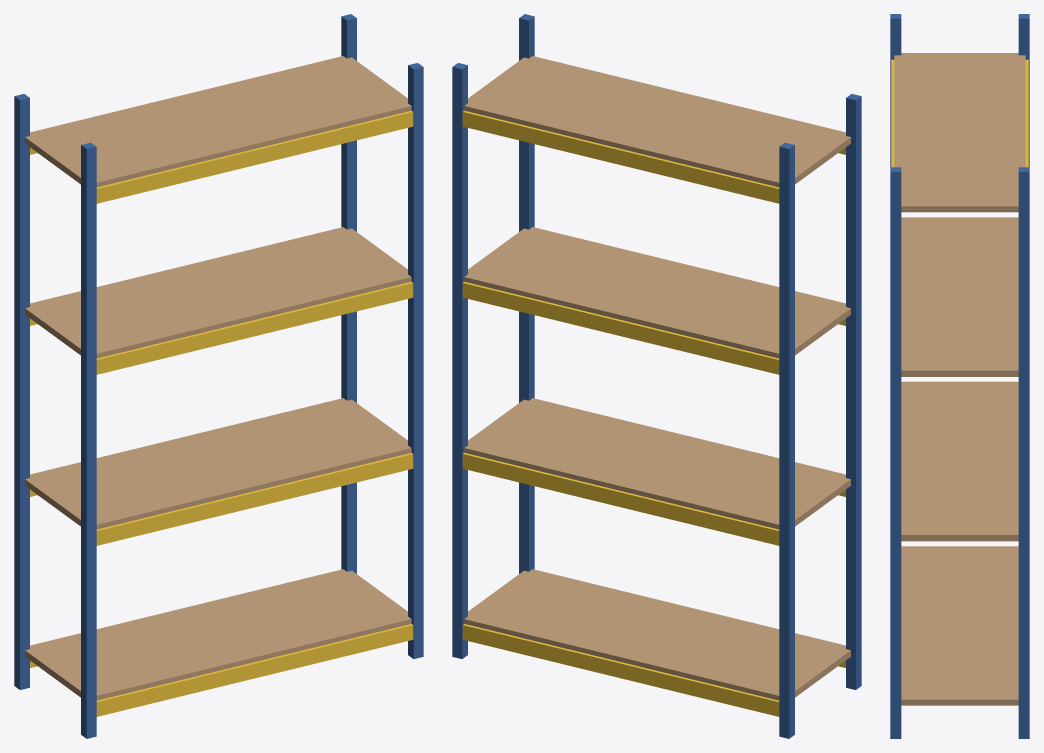
The model's file is Env_Shelf.fbx.
3 renders of one model, left to right at view 1: azimuth 30°, elevation 25°; view 2: azimuth 150°, elevation 25°; view 3: azimuth 270°, elevation 25°, orthographic. The views are drawn at different scales.
Parts seen in each view (by area): view 1: Env_Shelf_Board3, Env_Shelf_Board2, Env_Shelf_Board0, Env_Shelf_Board1, Env_Shelf_Upright0.020.02, Env_Shelf_Upright0.020.43, Env_Shelf_Upright1.180.02, Env_Shelf_Beam00.02, Env_Shelf_Beam30.02, Env_Shelf_Beam10.02, Env_Shelf_Beam20.02, Env_Shelf_Upright1.180.43; view 2: Env_Shelf_Board3, Env_Shelf_Board2, Env_Shelf_Board0, Env_Shelf_Board1, Env_Shelf_Upright0.020.43, Env_Shelf_Upright0.020.02, Env_Shelf_Upright1.180.43, Env_Shelf_Beam00.43, Env_Shelf_Beam30.43, Env_Shelf_Beam10.43, Env_Shelf_Beam20.43, Env_Shelf_Upright1.180.02; view 3: Env_Shelf_Board3, Env_Shelf_Board1, Env_Shelf_Board0, Env_Shelf_Board2, Env_Shelf_Upright1.180.02, Env_Shelf_Upright1.180.43, Env_Shelf_Upright0.020.02, Env_Shelf_Upright0.020.43, Env_Shelf_Beam30.02, Env_Shelf_Beam30.43.
Part boxes in pixels (x1,y1,x2,y2): Env_Shelf_Board3: (25, 56, 411, 187); Env_Shelf_Board2: (25, 227, 411, 358); Env_Shelf_Board0: (25, 569, 411, 700); Env_Shelf_Board1: (25, 398, 411, 529); Env_Shelf_Upright0.020.02: (81, 142, 96, 738); Env_Shelf_Upright0.020.43: (14, 94, 29, 689); Env_Shelf_Upright1.180.02: (408, 63, 423, 658); Env_Shelf_Beam00.02: (96, 624, 413, 716); Env_Shelf_Beam30.02: (96, 110, 413, 203); Env_Shelf_Beam10.02: (96, 453, 413, 545); Env_Shelf_Beam20.02: (96, 282, 413, 374); Env_Shelf_Upright1.180.43: (341, 14, 356, 573); Env_Shelf_Board3: (464, 56, 850, 187); Env_Shelf_Board2: (464, 227, 850, 358); Env_Shelf_Board0: (464, 569, 850, 700); Env_Shelf_Board1: (464, 398, 850, 529); Env_Shelf_Upright0.020.43: (779, 142, 794, 738); Env_Shelf_Upright0.020.02: (846, 94, 861, 689); Env_Shelf_Upright1.180.43: (452, 63, 467, 658); Env_Shelf_Beam00.43: (462, 624, 779, 716); Env_Shelf_Beam30.43: (462, 110, 779, 203); Env_Shelf_Beam10.43: (462, 453, 779, 545); Env_Shelf_Beam20.43: (462, 282, 779, 374); Env_Shelf_Upright1.180.02: (519, 14, 534, 573); Env_Shelf_Board3: (894, 53, 1025, 212); Env_Shelf_Board1: (901, 381, 1018, 541); Env_Shelf_Board0: (901, 546, 1018, 705); Env_Shelf_Board2: (901, 217, 1018, 376); Env_Shelf_Upright1.180.02: (890, 167, 901, 738); Env_Shelf_Upright1.180.43: (1018, 167, 1029, 738); Env_Shelf_Upright0.020.02: (890, 14, 901, 167); Env_Shelf_Upright0.020.43: (1018, 14, 1029, 167); Env_Shelf_Beam30.02: (891, 59, 894, 167); Env_Shelf_Beam30.43: (1025, 59, 1028, 167).
Bounding box in the file's own units: 1.19 × 2 × 0.445.
